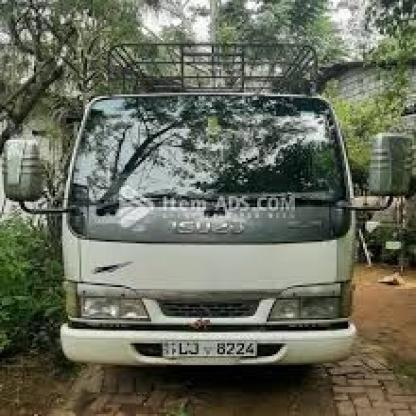Lorry front: (0, 37, 416, 380)
number plate: (159, 334, 261, 362)
